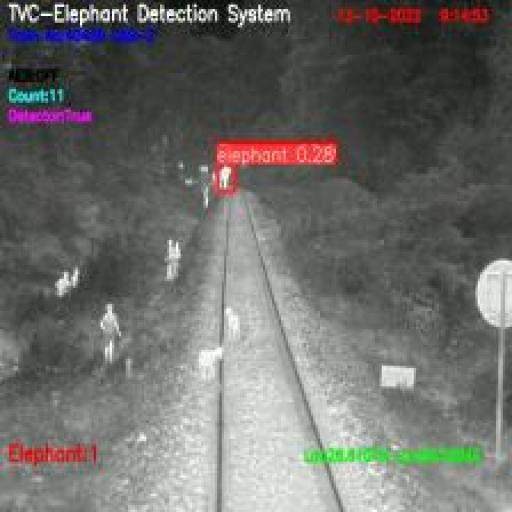Elephant: (217, 162, 233, 191)
